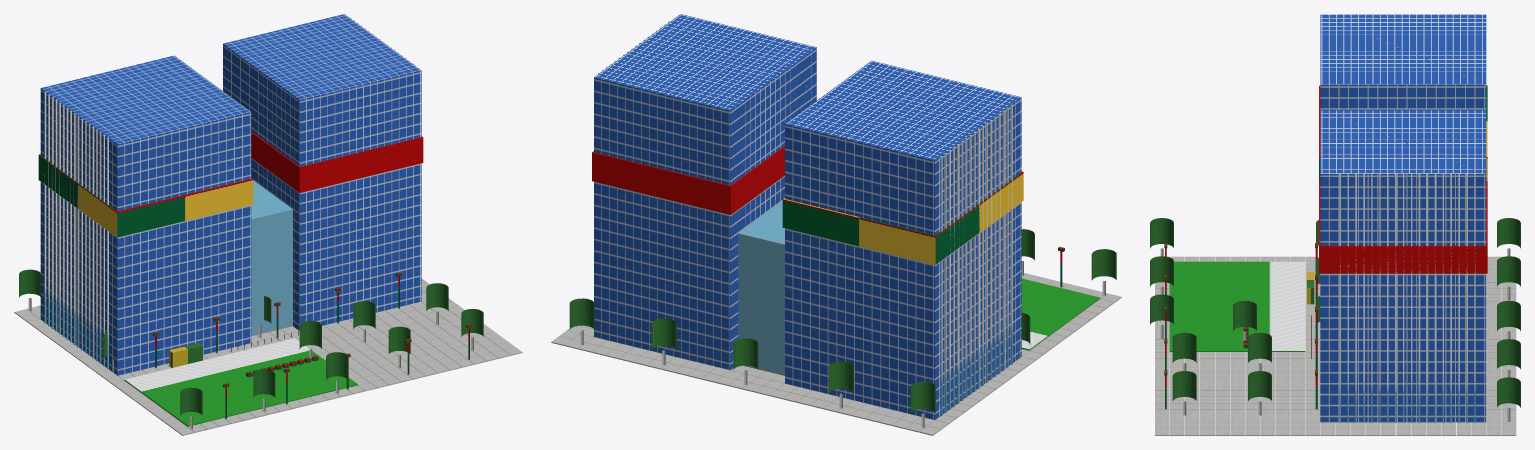
The picture shows the model from 3 angles, left to right: view 1: azimuth 30°, elevation 25°; view 2: azimuth 150°, elevation 25°; view 3: azimuth 270°, elevation 25°; orthographic projection. The views are drawn at different scales.
Parts seen in each view (by area): view 1: 28185_B25_Utah_Mason_Campus; view 2: 28185_B25_Utah_Mason_Campus; view 3: 28185_B25_Utah_Mason_Campus.
Boxes of the visible parts, x1=… form: 28185_B25_Utah_Mason_Campus: x1=14, y1=14, x2=522, y2=435; 28185_B25_Utah_Mason_Campus: x1=551, y1=14, x2=1121, y2=435; 28185_B25_Utah_Mason_Campus: x1=1150, y1=14, x2=1520, y2=435.
Bounding box in the file's own units: 55.95 × 36.5 × 49.2.
1 material, 1 textured.
